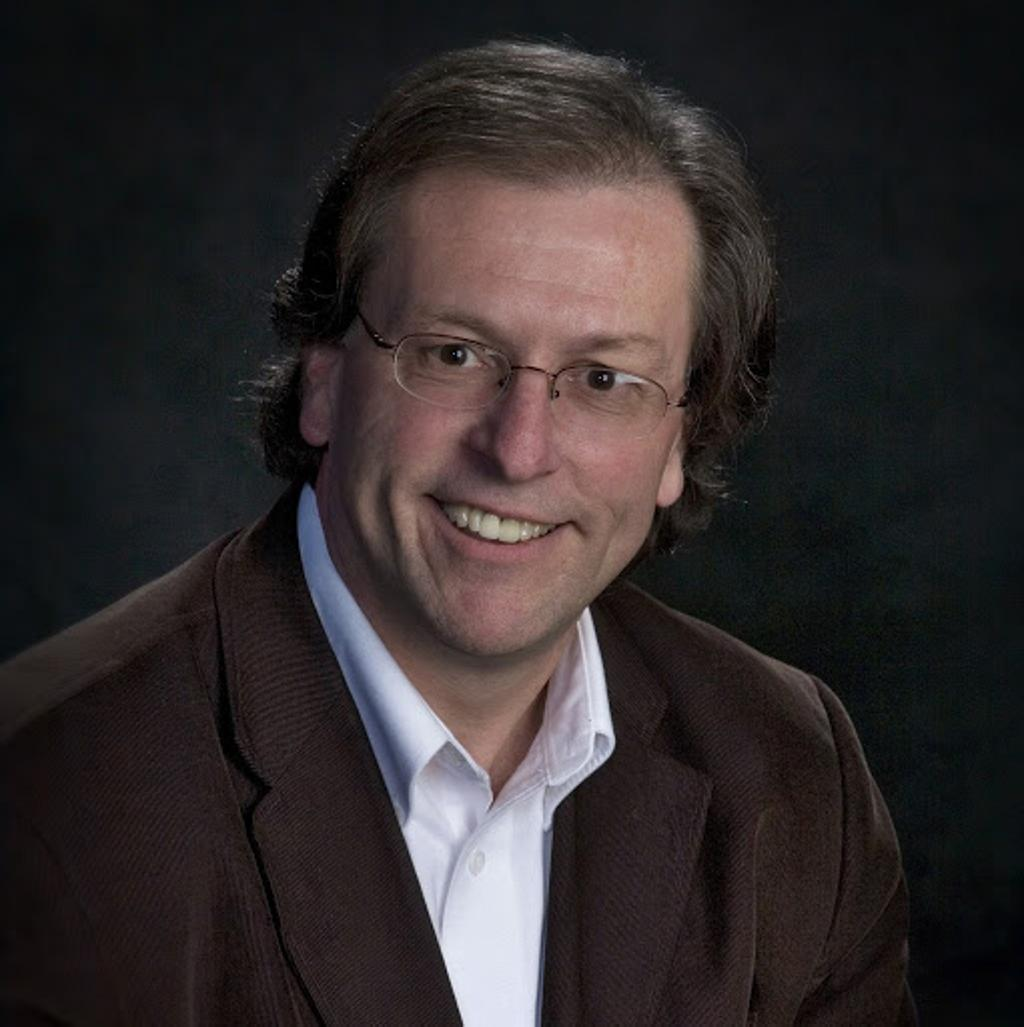face: (343, 172, 698, 653)
